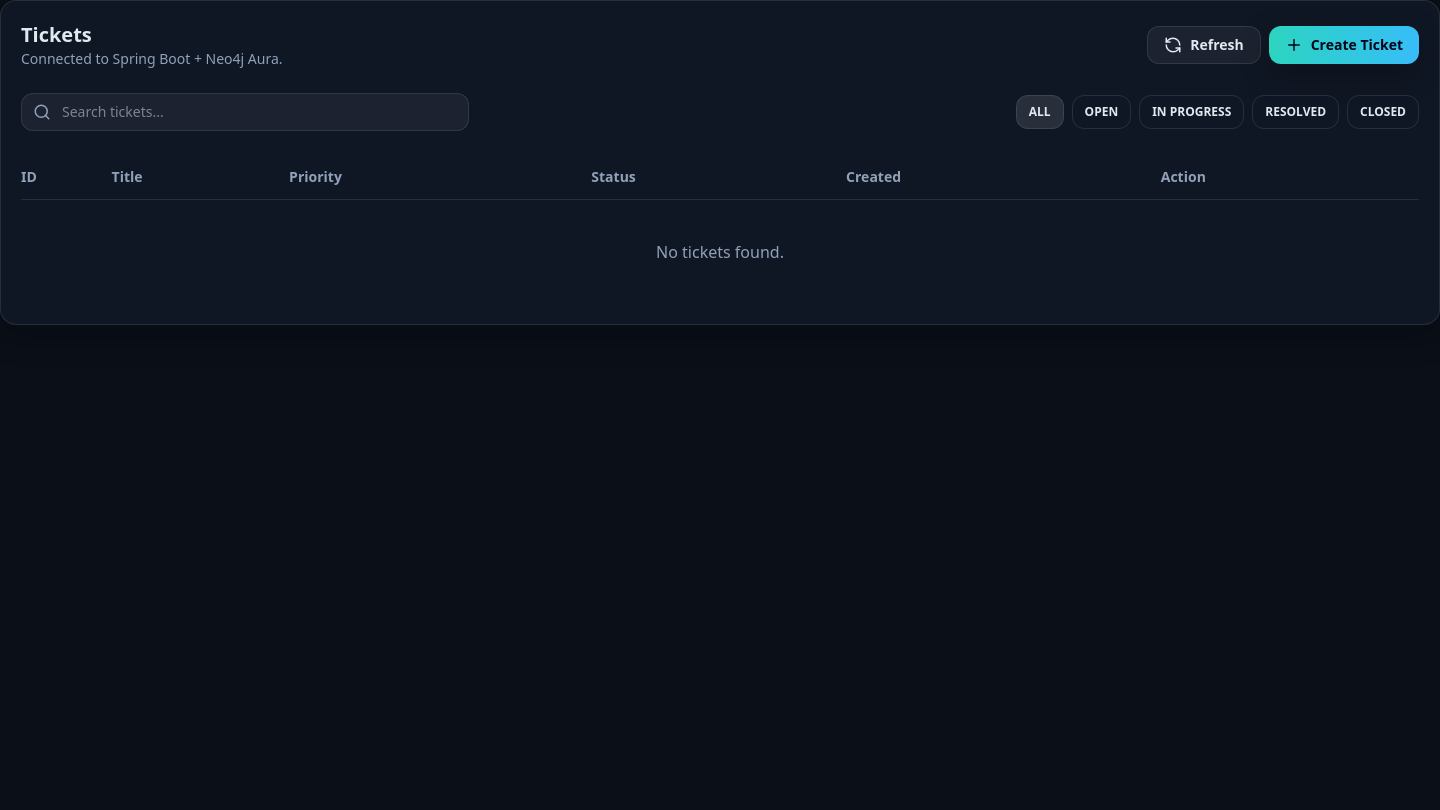
TicketsPage › opens create modal and adds created ticket
Note: open modal via button
Click the button "Create Ticket": (1344, 45) [1269, 26, 1419, 64]
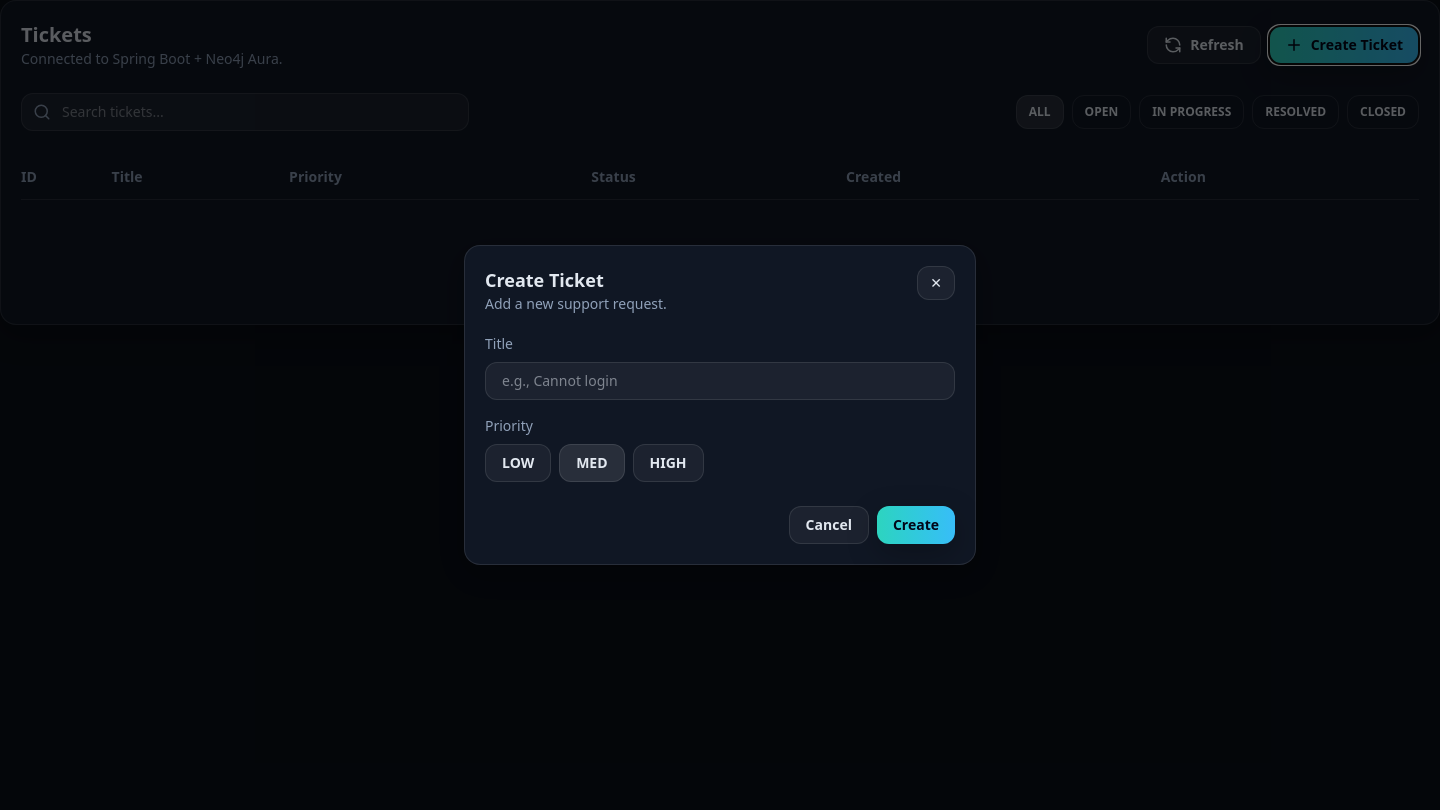
Now the text "Add a new support request." is shown, box [485, 294, 667, 314]
Note: modal title input uses placeholder
In the field with placeholder "e.g., Cannot login": (720, 381) [485, 362, 955, 400], type "New ticket"
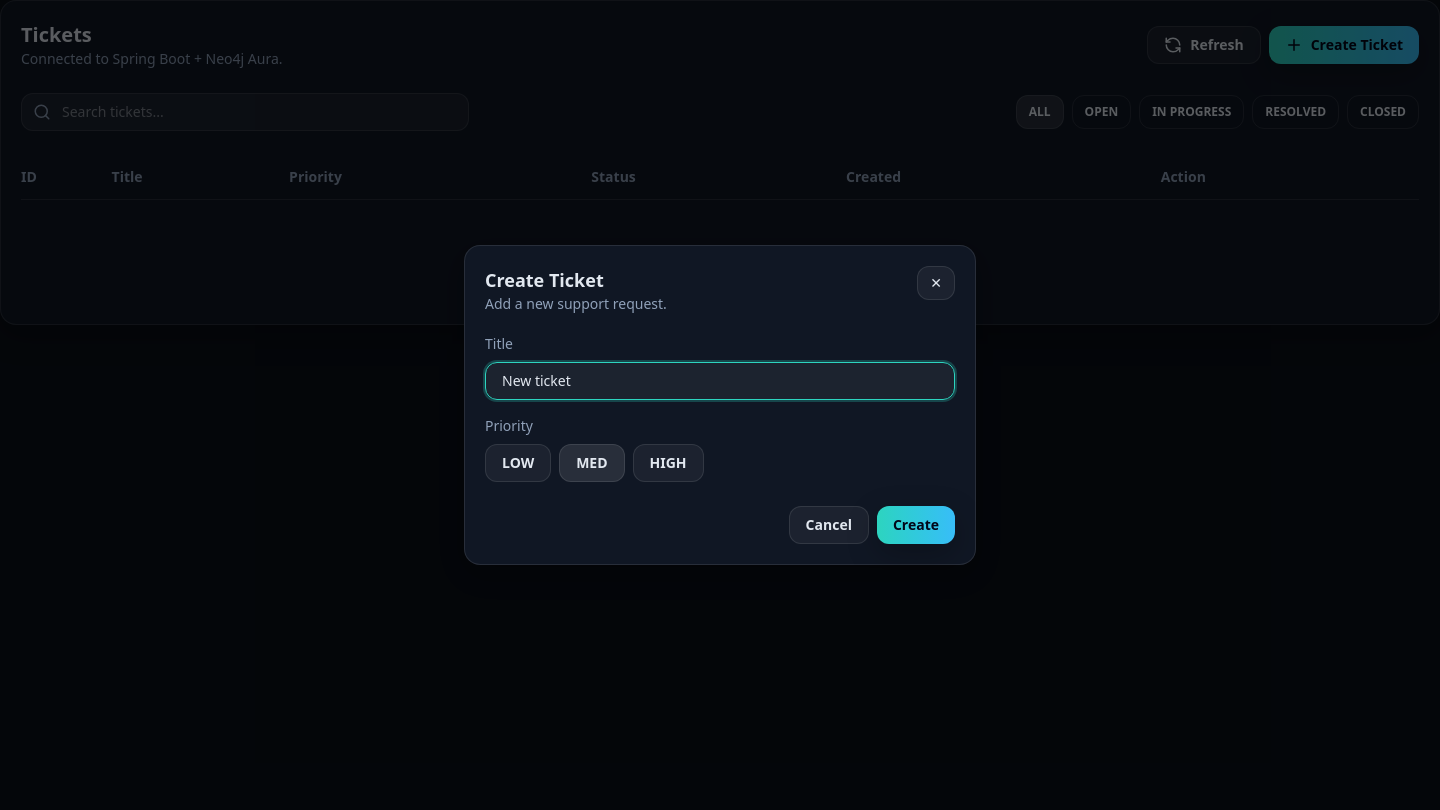
Click the button "Create": (916, 525) [877, 506, 955, 544]
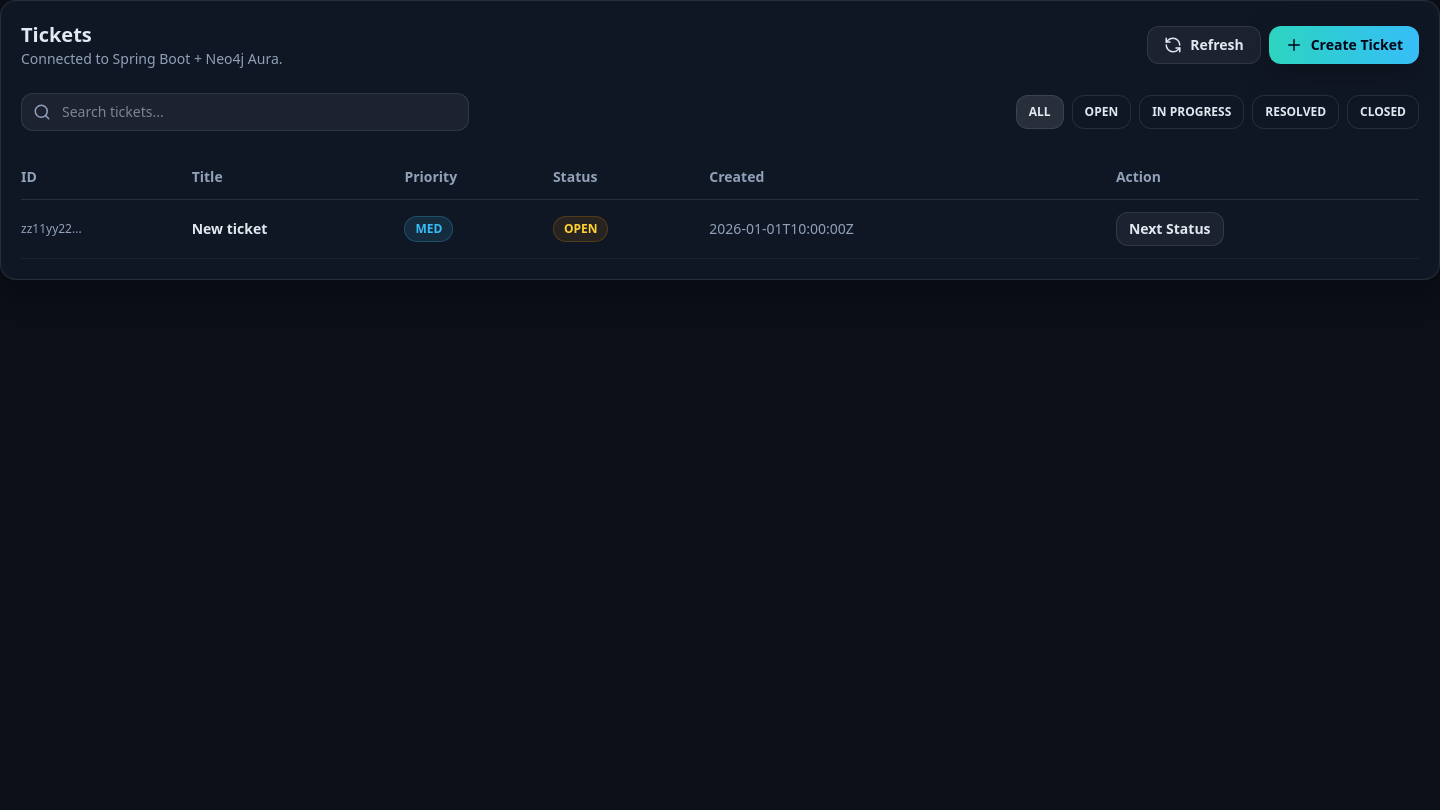
Now the text "New ticket" is shown, box [192, 200, 404, 258]
